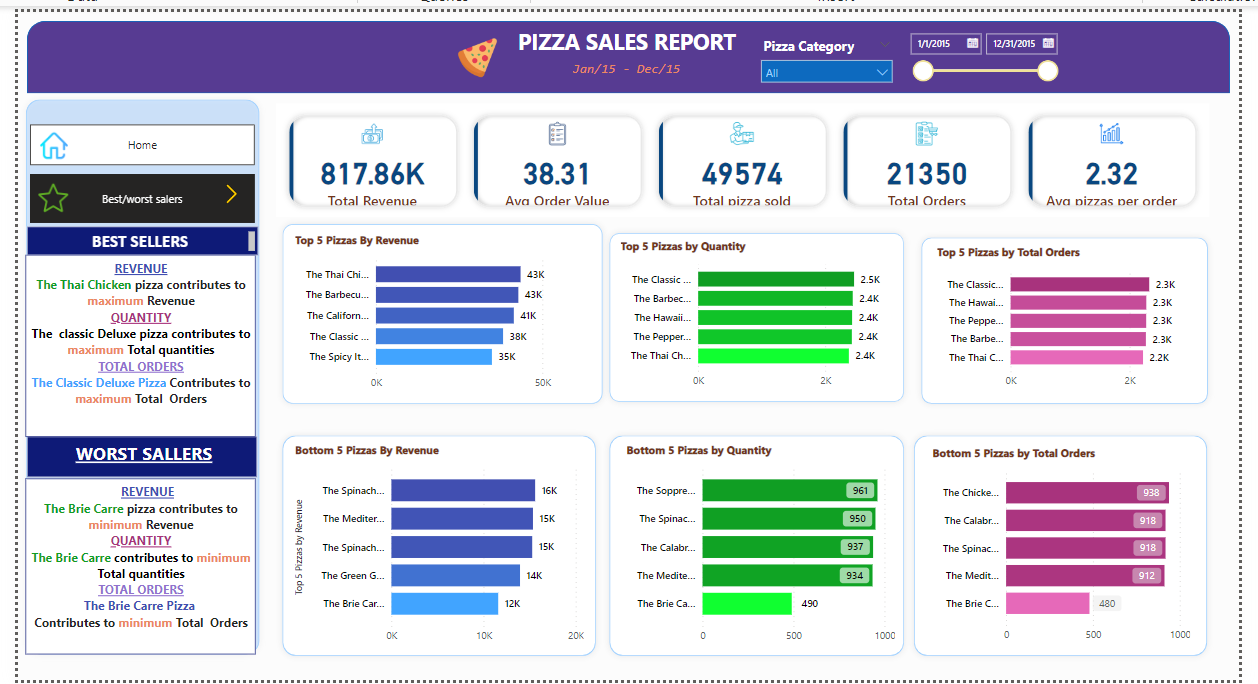

The dashboard page shown, as its layout file describes it:
{"tool":"powerbi","page":{"name":"Best/worst salers","canvas":[1500,820],"ordinal":1},"visuals":[{"type":"cardVisual","fields":{"Data":["pizza_sales.Total Revenue","pizza_sales.Avg Order Value","pizza_sales.Total pizza sold","pizza_sales.Total Orders","pizza_sales.Avg pizzas per order"]},"box":[316.4,112.6,1146.3,139.2],"z":0},{"type":"shape","box":[10.5,11.8,1477.8,88.9],"z":1000},{"type":"textbox","box":[596.1,12.4,305.8,51.2],"z":2000},{"type":"textbox","box":[676.8,55.9,177,45],"z":3000},{"type":"image","box":[521.8,26.2,86.3,60.2],"z":4000},{"type":"shape","box":[1.8,99.7,302.7,697.7],"z":5000},{"type":"textbox","box":[11.1,522.4,282.4,49.8],"z":6000},{"type":"textbox","box":[9.2,299,282.4,223.3],"z":7000},{"type":"textbox","box":[11.1,263.9,284.3,35.1],"z":8000},{"type":"textbox","box":[40,845,234,206],"z":9000},{"type":"textbox","box":[9.2,572.2,282.4,216],"z":10000},{"type":"slicer","fields":{"Values":["pizza_sales.pizza_category"]},"box":[902,26,181,61],"z":11000},{"type":"slicer","fields":{"Values":["pizza_sales.order_date"]},"box":[1082.8,15.7,202.7,81.1],"z":12000},{"type":"shape","box":[718.9,511.9,377.7,286.6],"z":13000},{"type":"shape","box":[1093.3,511.9,376,286.6],"z":14000},{"type":"barChart","title":"Bottom 5 Pizzas by Quantity","fields":{"Category":["pizza_sales.pizza_name"],"Y":["pizza_sales.Total pizza sold"]},"box":[742.1,528.4,339.6,255.1],"z":15000},{"type":"barChart","title":"Bottom 5 Pizzas by Total Orders","fields":{"Category":["pizza_sales.pizza_name"],"Y":["pizza_sales.Total Orders"]},"box":[1118.2,531.8,326.3,250.1],"z":16000},{"type":"pageNavigator","box":[15.6,137.8,276.7,50],"z":17000},{"type":"pageNavigator","box":[15.6,198.9,276.7,60],"z":18000},{"type":"image","box":[11.8,205.3,64.1,47.1],"z":19000},{"type":"image","box":[15.7,141.2,54.9,44.5],"z":20000},{"type":"image","box":[232.2,205.6,60,33.3],"z":21000},{"type":"shape","box":[316.4,511.9,400.9,286.6],"z":22000},{"type":"shape","box":[316.4,251.8,409.2,236.9],"z":23000},{"type":"barChart","title":"Top 5 Pizzas By Revenue","fields":{"Category":["pizza_sales.pizza_name"],"Y":["pizza_sales.Total Revenue"]},"box":[336.3,271.7,364.4,202.1],"z":24000},{"type":"barChart","title":"Bottom 5 Pizzas By Revenue","fields":{"Category":["pizza_sales.pizza_name"],"Y":["pizza_sales.Total Revenue"]},"box":[336.3,528.4,364.4,255.1],"z":25000},{"type":"shape","box":[718.9,263.4,377.7,223.6],"z":26000},{"type":"barChart","title":"Top 5 Pizzas by Quantity","fields":{"Category":["pizza_sales.pizza_name"],"Y":["pizza_sales.Total pizza sold"]},"box":[735.5,278.3,346.2,192.2],"z":27000},{"type":"shape","box":[1101.6,268.4,367.8,220.3],"z":28000},{"type":"barChart","title":"Top 5 Pizzas by Total Orders","fields":{"Category":["pizza_sales.pizza_name"],"Y":["pizza_sales.Total Orders"]},"box":[1123.2,284.9,326.3,185.5],"z":29000}]}

Visuals, with their boxes in screenshot pixels (x1, y1, x2, y2), scaled from the page's 1500x820 canvas onto the 1258x684 screenshot:
cardVisual - pizza_sales.Total Revenue x pizza_sales.Avg Order Value: [left=265, top=94, right=1227, bottom=210]
shape: [left=9, top=10, right=1248, bottom=84]
textbox: [left=500, top=10, right=756, bottom=53]
textbox: [left=568, top=47, right=716, bottom=84]
image: [left=438, top=22, right=510, bottom=72]
shape: [left=2, top=83, right=255, bottom=665]
textbox: [left=9, top=436, right=246, bottom=477]
textbox: [left=8, top=249, right=245, bottom=436]
textbox: [left=9, top=220, right=248, bottom=249]
textbox: [left=8, top=477, right=245, bottom=657]
slicer - pizza_sales.pizza_category: [left=756, top=22, right=908, bottom=73]
slicer - pizza_sales.order_date: [left=908, top=13, right=1078, bottom=81]
shape: [left=603, top=427, right=920, bottom=666]
shape: [left=917, top=427, right=1232, bottom=666]
"Bottom 5 Pizzas by Quantity" barChart: [left=622, top=441, right=907, bottom=654]
"Bottom 5 Pizzas by Total Orders" barChart: [left=938, top=444, right=1211, bottom=652]
pageNavigator: [left=13, top=115, right=245, bottom=157]
pageNavigator: [left=13, top=166, right=245, bottom=216]
image: [left=10, top=171, right=64, bottom=211]
image: [left=13, top=118, right=59, bottom=155]
image: [left=195, top=172, right=245, bottom=199]
shape: [left=265, top=427, right=602, bottom=666]
shape: [left=265, top=210, right=609, bottom=408]
"Top 5 Pizzas By Revenue" barChart: [left=282, top=227, right=588, bottom=395]
"Bottom 5 Pizzas By Revenue" barChart: [left=282, top=441, right=588, bottom=654]
shape: [left=603, top=220, right=920, bottom=406]
"Top 5 Pizzas by Quantity" barChart: [left=617, top=232, right=907, bottom=392]
shape: [left=924, top=224, right=1232, bottom=408]
"Top 5 Pizzas by Total Orders" barChart: [left=942, top=238, right=1216, bottom=392]
